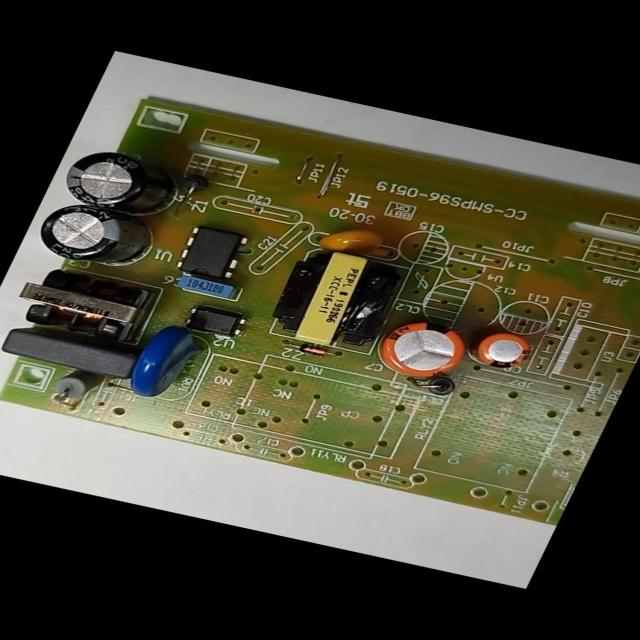Cap1: (362, 305, 489, 392)
Cap2: (452, 317, 543, 381)
Cap3: (24, 188, 168, 280)
Cap4: (42, 140, 202, 228)
MOSFET: (159, 214, 260, 291)
Mov: (110, 313, 228, 417)
Resistor: (38, 363, 110, 411)
Transformer: (254, 236, 420, 360), (1, 257, 165, 350)
